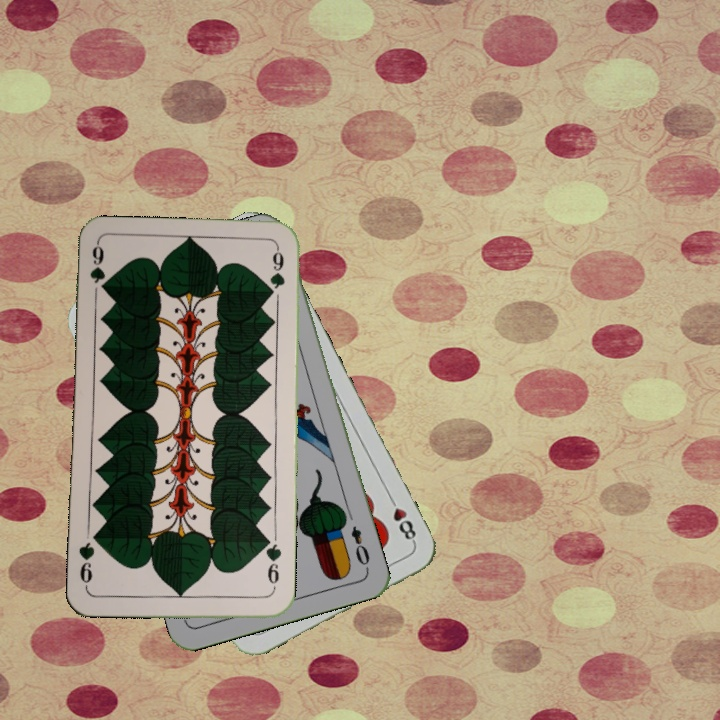EO: (347, 522, 373, 573)
G9: (261, 535, 284, 594), (85, 241, 107, 286)
H8: (384, 492, 419, 546)
